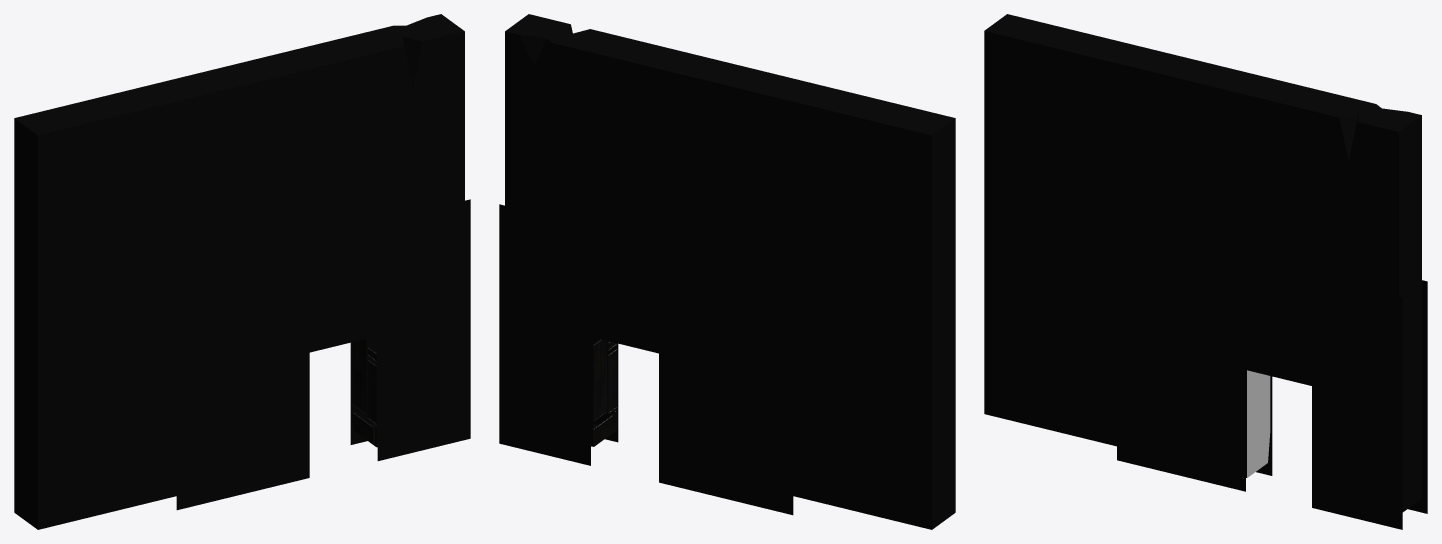
3 views of the same model, side by side, from view 1: azimuth 30°, elevation 25°; view 2: azimuth 150°, elevation 25°; view 3: azimuth 330°, elevation 25° (orthographic). The views are drawn at different scales.
Visible parts, largest first — view 1: SFT_Building_Attachable_Roof_Interior_Support__14_; view 2: SFT_Building_Attachable_Roof_Interior_Support__14_; view 3: SFT_Building_Attachable_Roof_Interior_Support__14_.
Part boxes in pixels (x1=…): SFT_Building_Attachable_Roof_Interior_Support__14_: x1=14, y1=14, x2=470, y2=529; SFT_Building_Attachable_Roof_Interior_Support__14_: x1=499, y1=14, x2=955, y2=529; SFT_Building_Attachable_Roof_Interior_Support__14_: x1=984, y1=14, x2=1427, y2=529.
Size of the model in its own units: 1195 by 1088 by 130.
